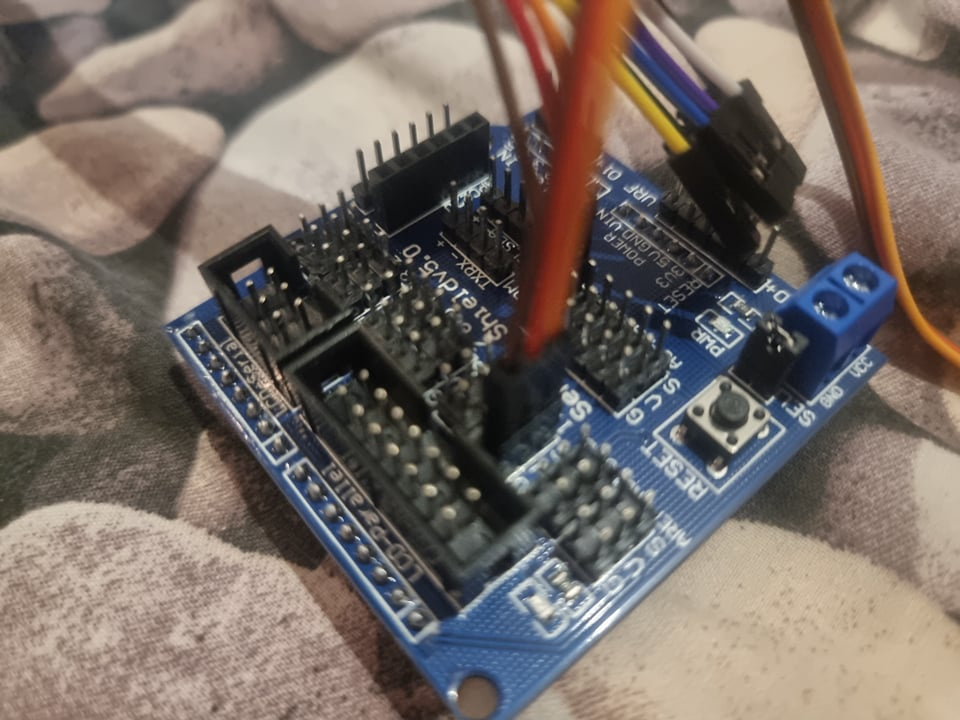5V EXPANSION: (164, 106, 893, 716)
